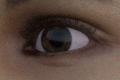eye: (42, 26, 71, 52)
